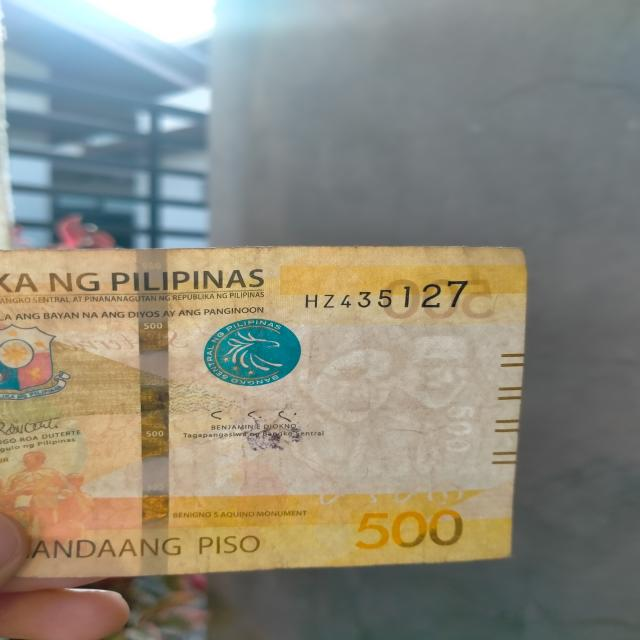security_thread: (132, 249, 174, 574)
see_through_mark: (284, 476, 475, 516)
value_watermark: (438, 398, 480, 464)
watermark: (292, 310, 474, 498)
